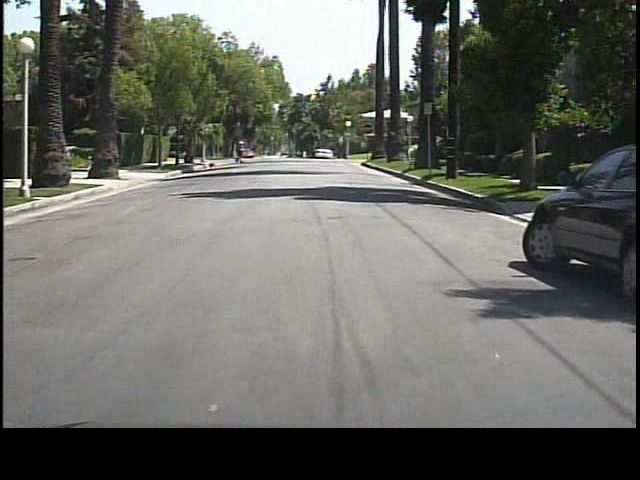person: (233, 134, 249, 165)
